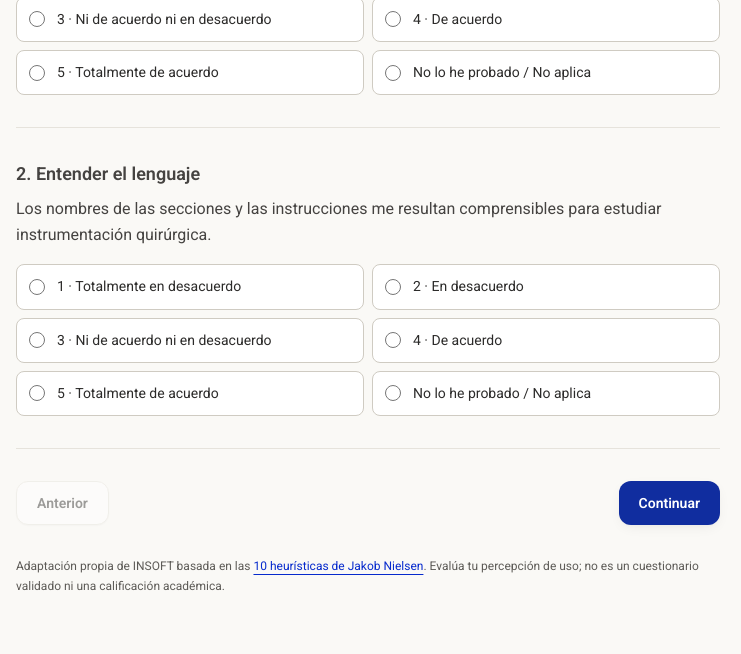
Evaluación de experiencia › valida respuestas sin obligar a valorar algo que no se usó y permite corregir
(page scrolled)
Click the button "Continuar" at (669, 503), box top-left (619, 481), bottom-right (720, 525)
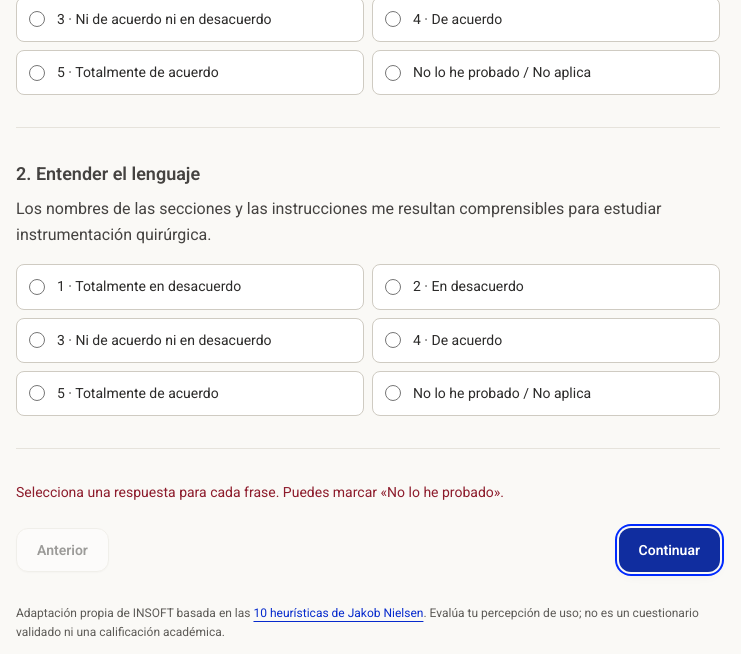
Expected: the message shows "Selecciona una respuesta", top-left (16, 484), bottom-right (504, 500)
Click the radio button labelled "4 · De acuerdo" below "Saber qué está pasando" at (393, 19), box top-left (385, 11), bottom-right (401, 27)
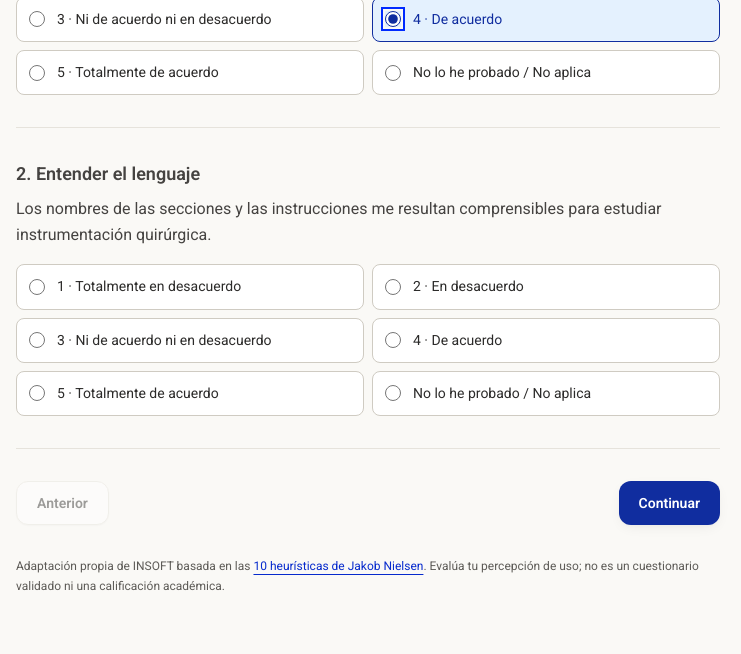
Click the radio button labelled "No lo he probado / No aplica" below "Entender el lenguaje" at (393, 393), box top-left (385, 385), bottom-right (401, 401)
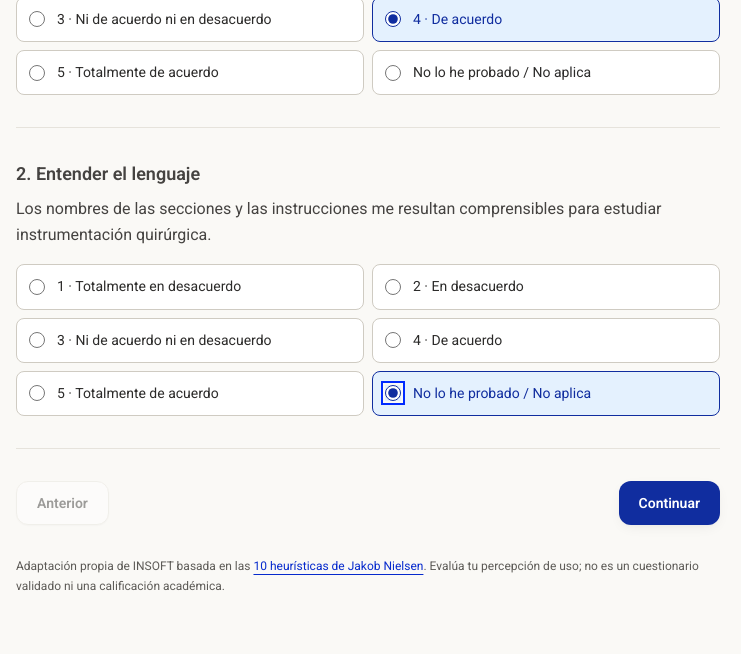
Click the button "Continuar" at (669, 503), box top-left (619, 481), bottom-right (720, 525)
(page scrolled)
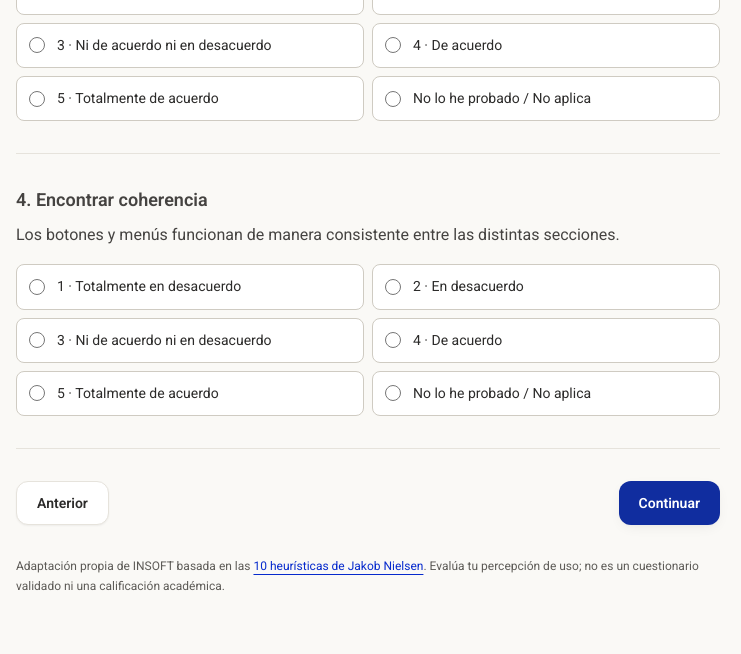
Click the button "Anterior" at (62, 503), box top-left (16, 481), bottom-right (109, 525)
(page scrolled)
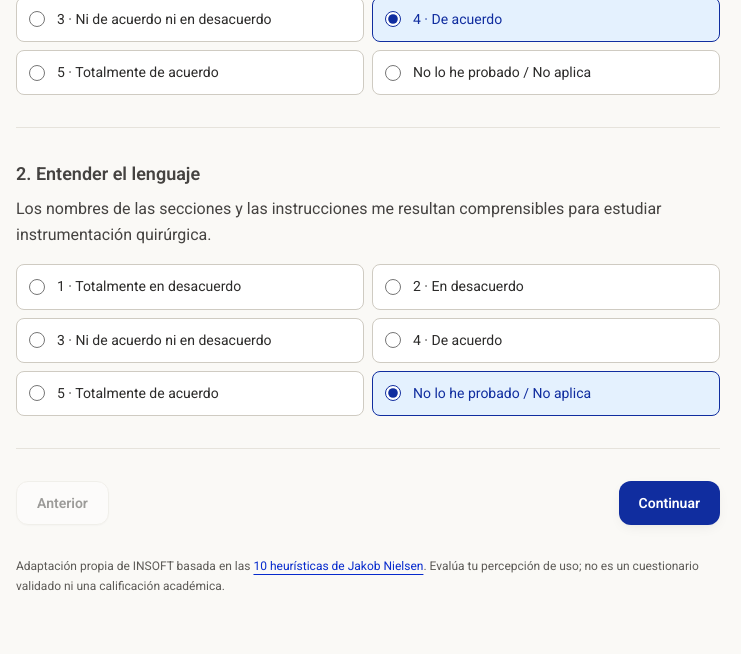
Expected: the radio button labelled "4 · De acuerdo" below "Saber qué está pasando" is shown, top-left (385, 11), bottom-right (401, 27)
Expected: the radio button labelled "No lo he probado / No aplica" below "Entender el lenguaje" is shown, top-left (385, 385), bottom-right (401, 401)
